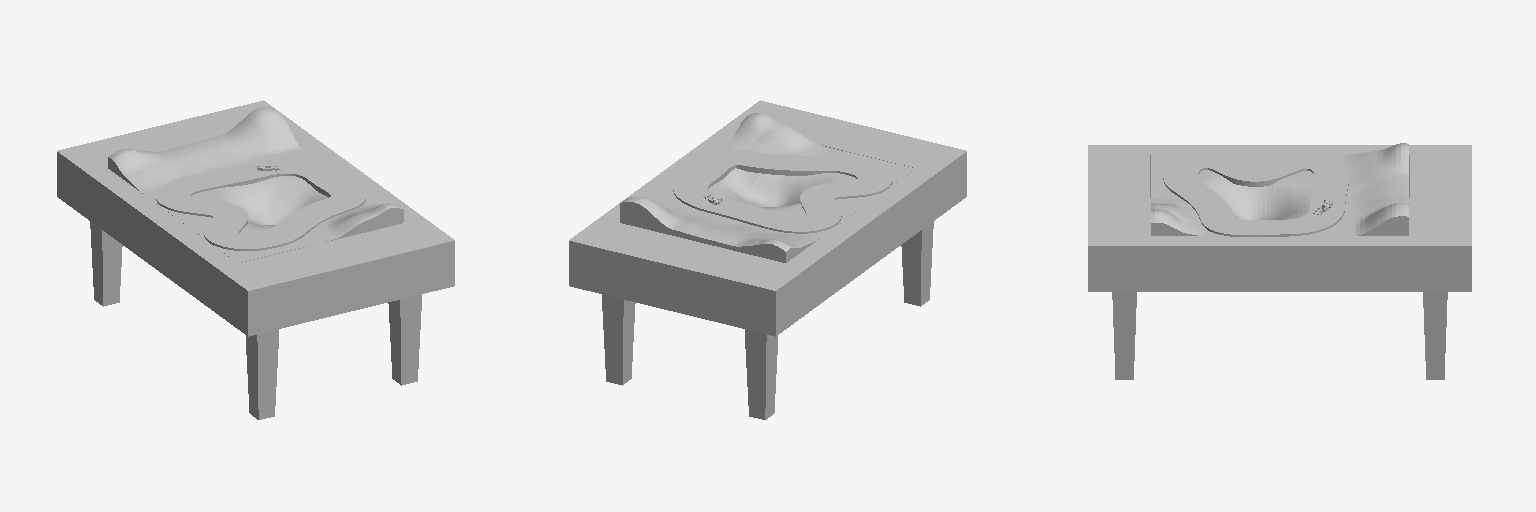
File: NewestTisch10.obj
3 renders of one model, left to right at view 1: azimuth 30°, elevation 25°; view 2: azimuth 150°, elevation 25°; view 3: azimuth 270°, elevation 25°, orthographic.
Parts seen in each view (by area): view 1: Tischplatte_wood_table_001, Landschaft_aerial_grass_rock, off, Bein1_wood_table_001, Bein4_wood_table_001.003, Bein3_wood_table_001.002; view 2: Tischplatte_wood_table_001, Landschaft_aerial_grass_rock, off, Bein2_wood_table_001.001, Bein3_wood_table_001.002, Bein4_wood_table_001.003; view 3: Tischplatte_wood_table_001, Landschaft_aerial_grass_rock, off, Bein1_wood_table_001, Bein2_wood_table_001.001.
Part boxes in pixels (x1,y1,x2,y2): Tischplatte_wood_table_001: (57, 100, 454, 336); Landschaft_aerial_grass_rock: (108, 107, 403, 262); off: (156, 159, 365, 250); Bein1_wood_table_001: (388, 294, 421, 385); Bein4_wood_table_001.003: (246, 329, 278, 419); Bein3_wood_table_001.002: (90, 221, 122, 306); Tischplatte_wood_table_001: (569, 100, 966, 336); Landschaft_aerial_grass_rock: (620, 113, 915, 262); off: (673, 150, 892, 233); Bein2_wood_table_001.001: (602, 294, 635, 385); Bein3_wood_table_001.002: (745, 329, 777, 419); Bein4_wood_table_001.003: (901, 221, 933, 306); Tischplatte_wood_table_001: (1088, 145, 1471, 291); Landschaft_aerial_grass_rock: (1151, 143, 1408, 235); off: (1163, 153, 1348, 236); Bein1_wood_table_001: (1112, 292, 1136, 379); Bein2_wood_table_001.001: (1423, 292, 1447, 379).
Size of the model in its own units: 5 by 3.91 by 8.